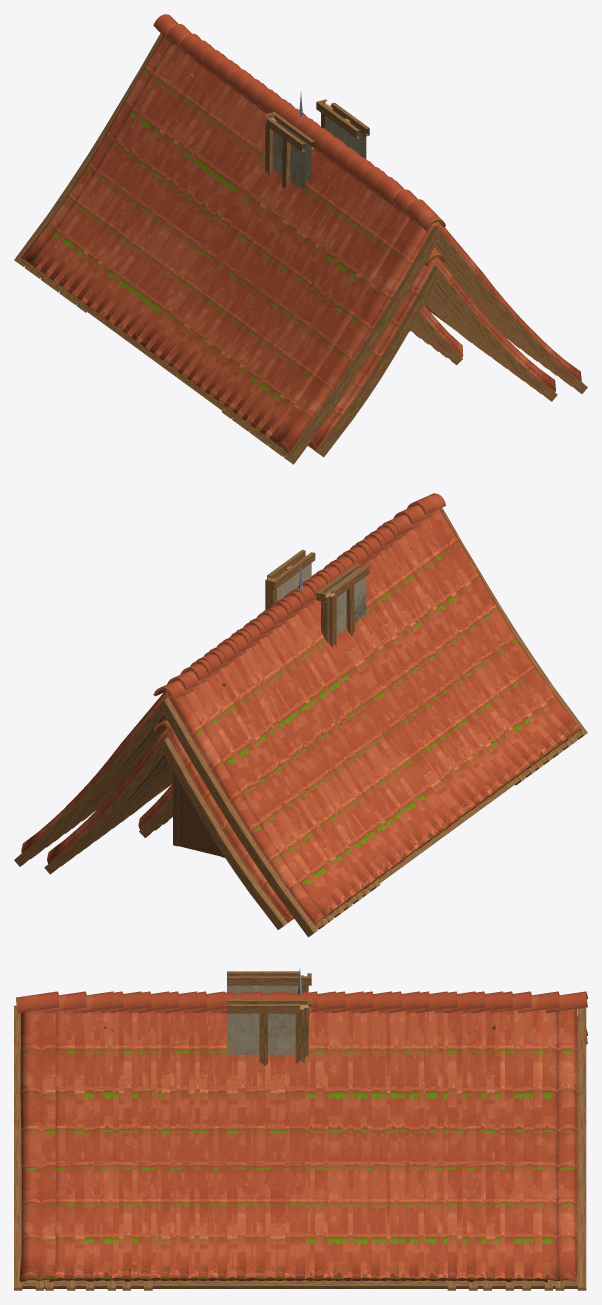
The model's file is medieval_kit.gltf.
3 renders of one model, top to bottom at view 1: azimuth 30°, elevation 25°; view 2: azimuth 150°, elevation 25°; view 3: azimuth 270°, elevation 25°, orthographic. The views are drawn at different scales.
Visible parts, largest first — view 1: Roof_RoundTiles_8x14, Roof_RoundTiles_8x12, Roof_RoundTiles_8x10, Roof_RoundTiles_8x8, Roof_RoundTiles_6x14, Overhang_Side_Plaster_Long_L, Overhang_Side_Plaster_Long_R, Roof_RoundTiles_4x8, Overhang_Side_UnevenBrick_Long_L; view 2: Roof_RoundTiles_8x14, Roof_RoundTiles_8x12, Roof_RoundTiles_8x10, Roof_RoundTiles_8x8, Roof_RoundTiles_6x14, Overhang_Side_Plaster_Long_L, Stair_Interior_SolidExtended, Overhang_Side_Plaster_Long_R, Roof_RoundTiles_4x8, Overhang_Side_Plaster_Short_L; view 3: Roof_RoundTiles_8x14, Roof_RoundTiles_8x12, Roof_RoundTiles_8x10, Roof_RoundTiles_8x8, Overhang_Side_Plaster_Long_R, Overhang_Side_Plaster_Long_L, Overhang_Side_Plaster_Short_R.
Part boxes in pixels (box(x1,y1,x2,y2)): Roof_RoundTiles_8x14: box(14, 14, 587, 464); Roof_RoundTiles_8x12: box(30, 24, 565, 449); Roof_RoundTiles_8x10: box(48, 40, 547, 438); Roof_RoundTiles_8x8: box(66, 50, 529, 424); Roof_RoundTiles_6x14: box(308, 248, 557, 457); Overhang_Side_Plaster_Long_L: box(265, 112, 315, 194); Overhang_Side_Plaster_Long_R: box(316, 99, 369, 158); Roof_RoundTiles_4x8: box(411, 305, 463, 365); Overhang_Side_UnevenBrick_Long_L: box(273, 133, 305, 194); Roof_RoundTiles_8x14: box(14, 493, 587, 937); Roof_RoundTiles_8x12: box(36, 505, 572, 922); Roof_RoundTiles_8x10: box(54, 523, 553, 910); Roof_RoundTiles_8x8: box(72, 532, 535, 896); Roof_RoundTiles_6x14: box(44, 720, 293, 929); Overhang_Side_Plaster_Long_L: box(316, 563, 369, 647); Stair_Interior_SolidExtended: box(173, 771, 224, 857); Overhang_Side_Plaster_Long_R: box(265, 549, 315, 609); Roof_RoundTiles_4x8: box(138, 783, 172, 837); Overhang_Side_Plaster_Short_L: box(318, 576, 352, 635); Roof_RoundTiles_8x14: box(14, 991, 587, 1290); Roof_RoundTiles_8x12: box(45, 991, 559, 1290); Roof_RoundTiles_8x10: box(82, 991, 513, 1290); Roof_RoundTiles_8x8: box(110, 991, 485, 1290); Overhang_Side_Plaster_Long_R: box(227, 999, 311, 1065); Overhang_Side_Plaster_Long_L: box(227, 971, 311, 993); Overhang_Side_Plaster_Short_R: box(263, 999, 310, 1056).
Bounding box in the file's own units: 9.95 × 8.91 × 15.71.
11 materials, 10 textured.
